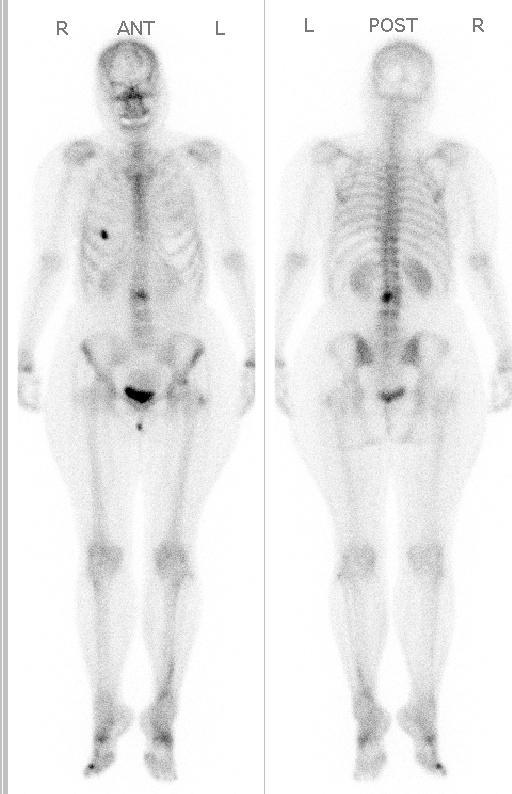person: (7, 1, 511, 794)
